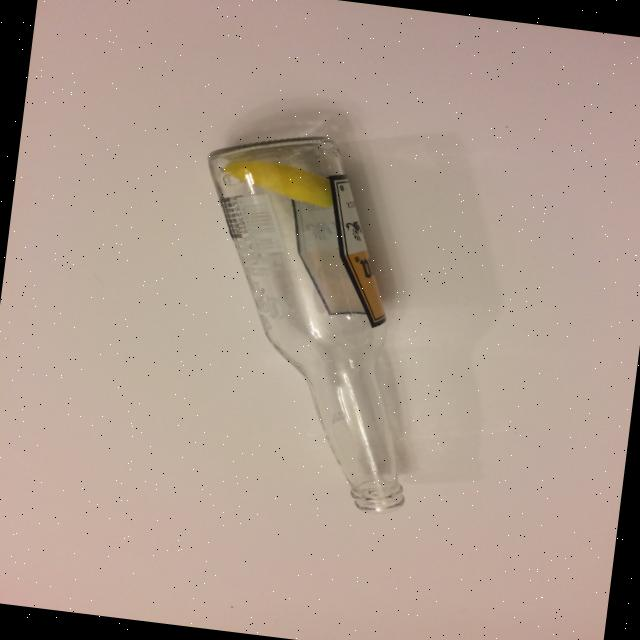glass: (166, 120, 450, 517)
